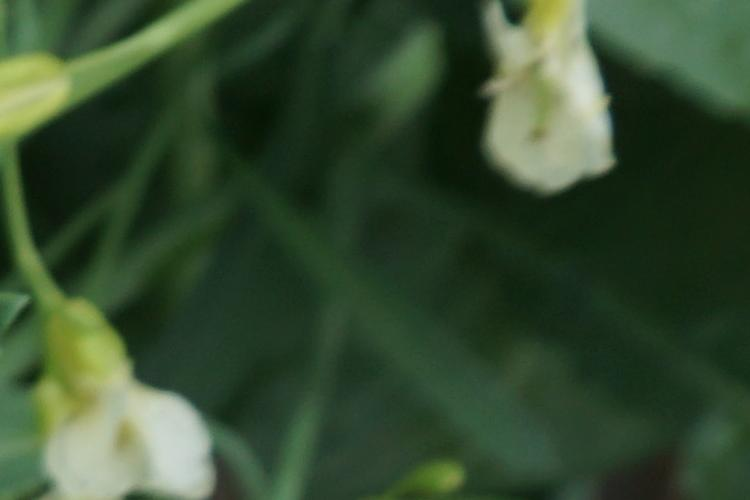white: (34, 310, 219, 494), (474, 15, 640, 204)
